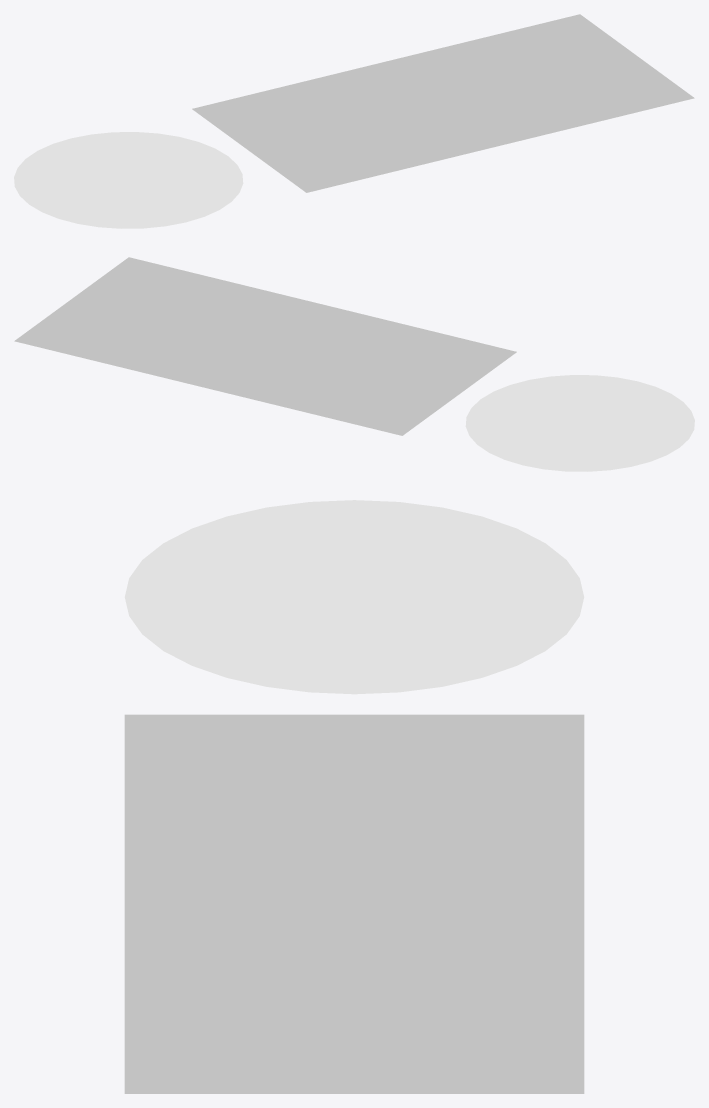
3 renders of one model, top to bottom at view 1: azimuth 30°, elevation 25°; view 2: azimuth 150°, elevation 25°; view 3: azimuth 270°, elevation 25°, orthographic. The views are drawn at different scales.
Parts seen in each view (by area): view 1: flagNameBg, flagCircle; view 2: flagNameBg, flagCircle; view 3: flagNameBg, flagCircle.
Boxes of the visible parts, x1,y1,x2,y2 form: flagNameBg: [192, 14, 694, 192]; flagCircle: [14, 132, 243, 228]; flagNameBg: [14, 257, 516, 435]; flagCircle: [465, 375, 694, 471]; flagNameBg: [124, 714, 584, 1093]; flagCircle: [124, 500, 584, 694].
Size of the model in its own units: 6.12 by 0 by 2.
Materials: 1 (1 with a texture image).
